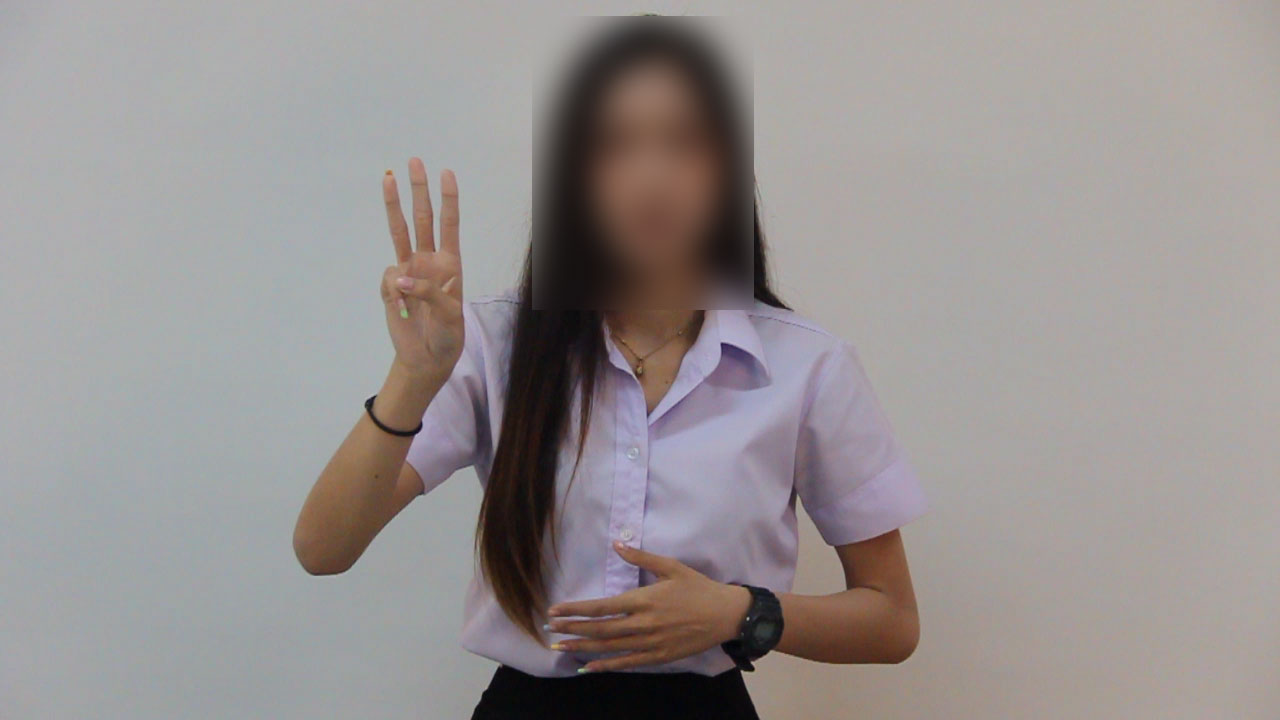wor: (362, 146, 472, 391)
